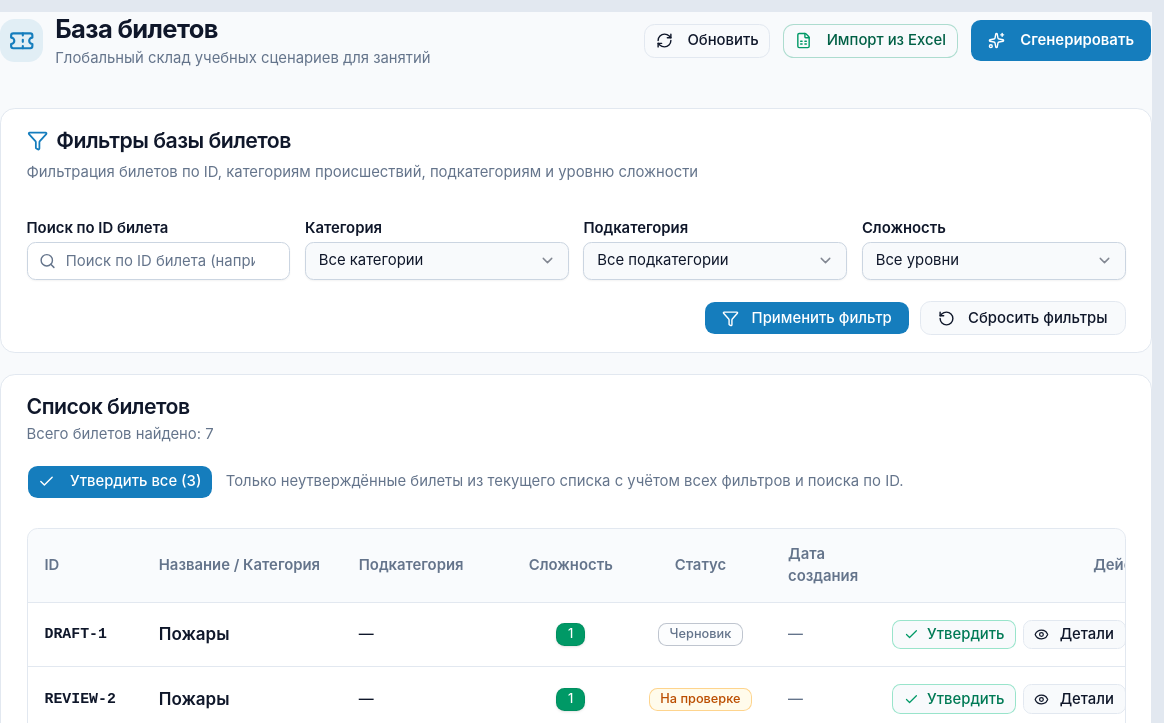
Test case: Массовое утверждение билетов › утверждает каждый уникальный ожидающий билет через сервер, пропускает утверждённые, архивные и удалённые
Click the button "Утвердить все (3)" at (120, 482), box [26, 465, 213, 499]
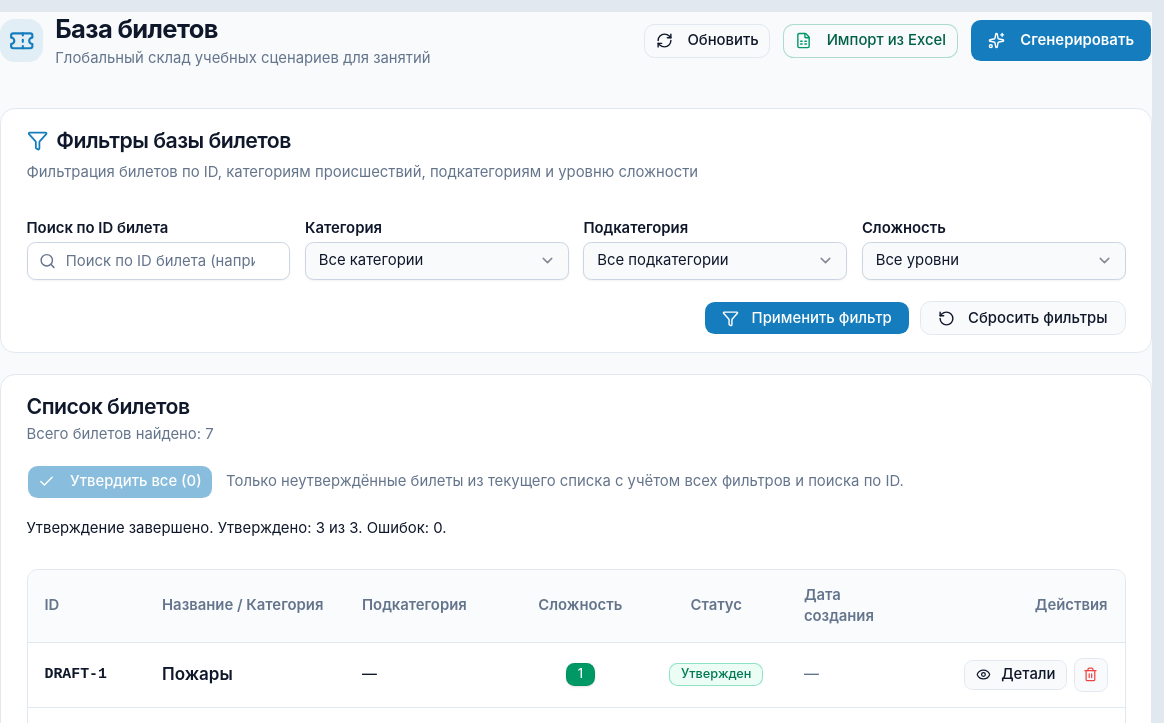
Expected: the text "Утверждение завершено. Утверждено: 3 из 3. Ошибок: 0." is shown, [26, 519, 447, 537]
Expected: the button "Утвердить все (0)" is disabled, [26, 465, 213, 499]
